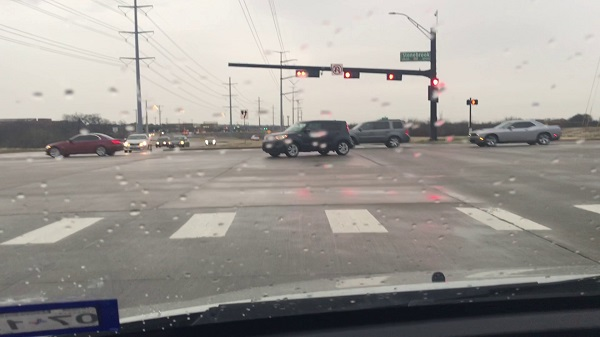car: (261, 120, 353, 157), (471, 116, 562, 146), (43, 133, 124, 157), (350, 121, 411, 149), (123, 133, 152, 152), (167, 137, 189, 149)
